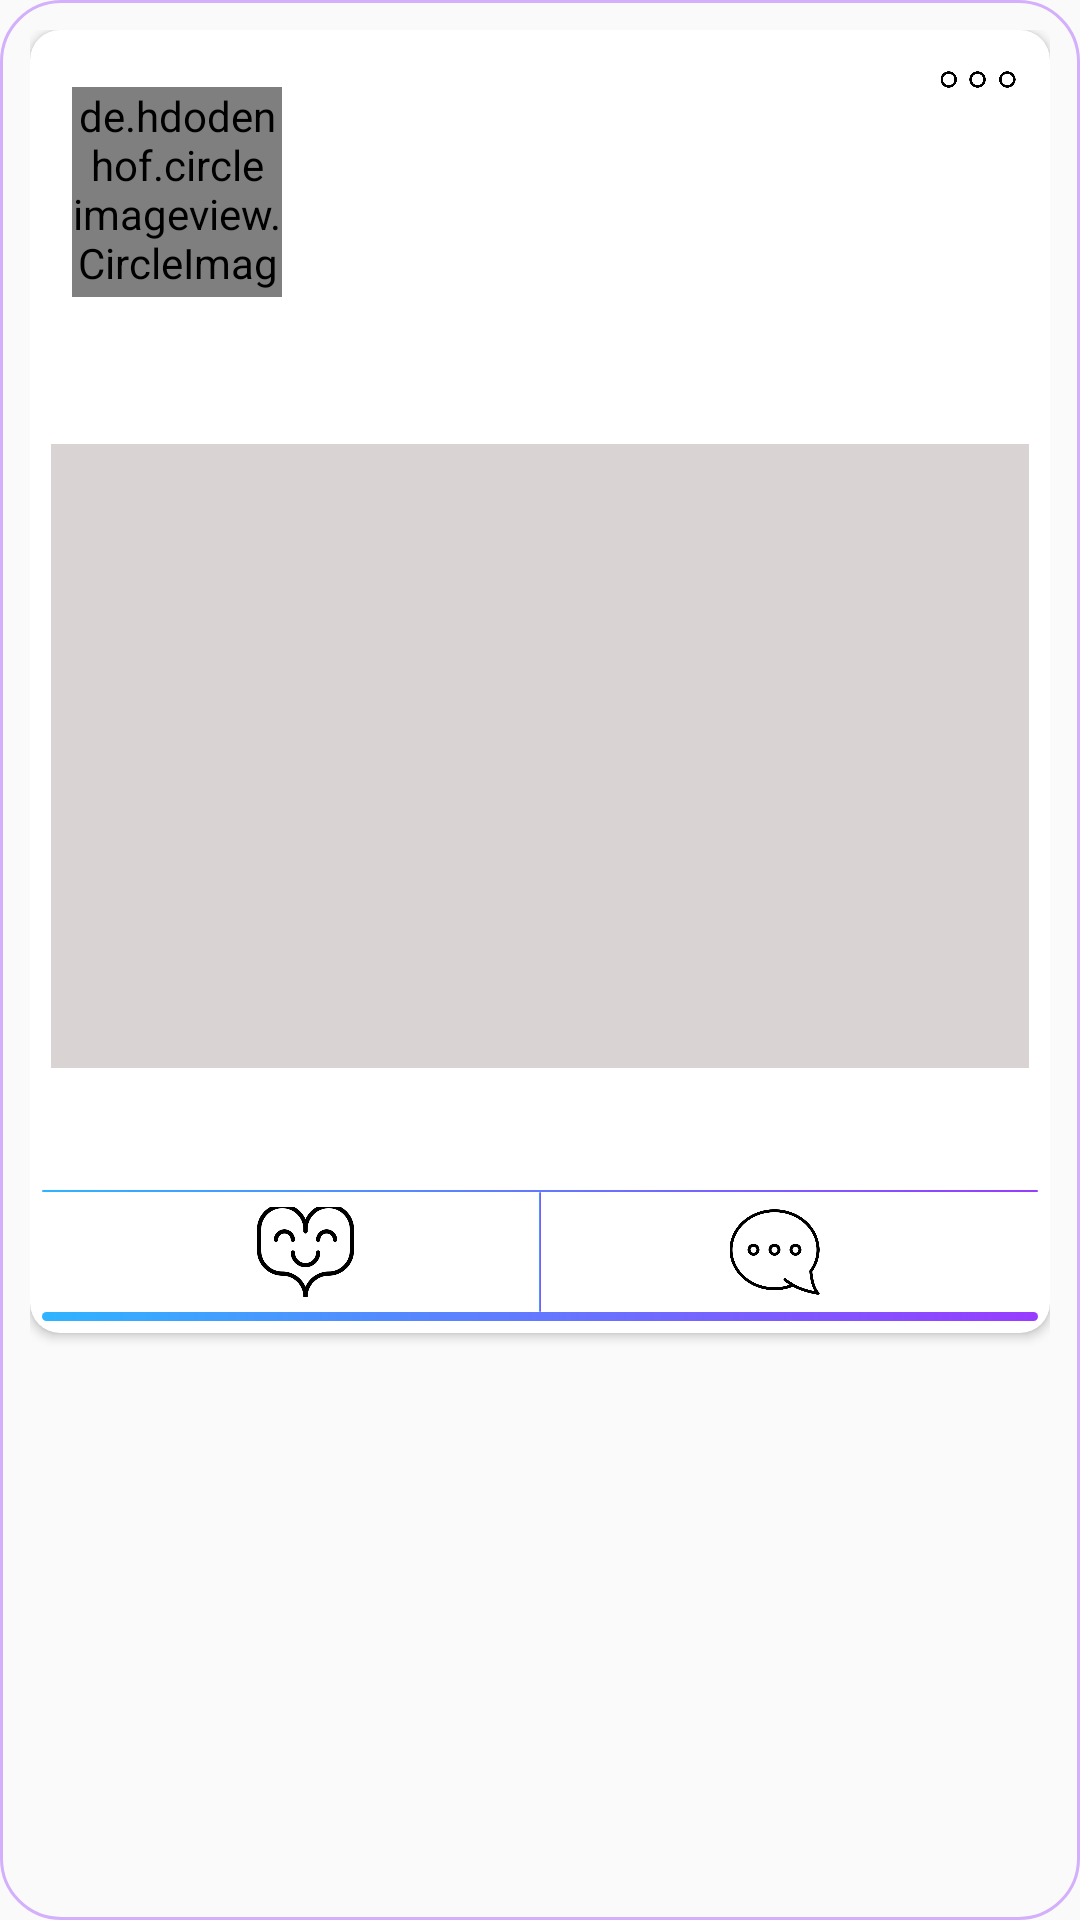

Icons on this 1080px×1920px Android screen, each with its box as bbox(x1, y1, x2, y2):
comment: bbox(730, 1209, 820, 1295)
heart: bbox(257, 1207, 354, 1297)
three dots: bbox(941, 71, 1016, 88)
